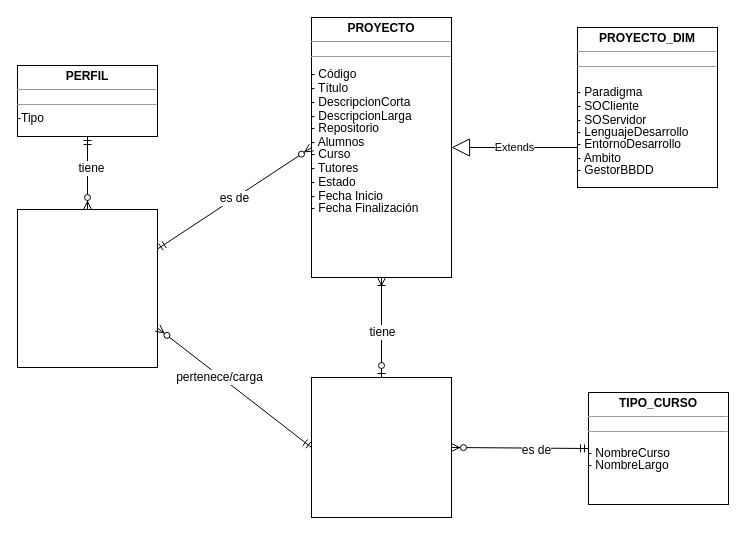
Some shapes in this 746 by 535 pixel diagram are drawn without their labels. The shapes that lost their labels are listed below. From the top down, each one's centre as x and y in pixels, then its label:
At pixel 87 288: "USUARIO - Nombre - Apellido 1 - Apellido 2 - email - Password - Estado".
At pixel 381 447: "CURSO - Codigo - Edicion - Año".
